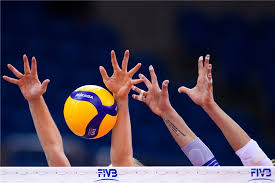ball: (63, 84, 119, 139)
